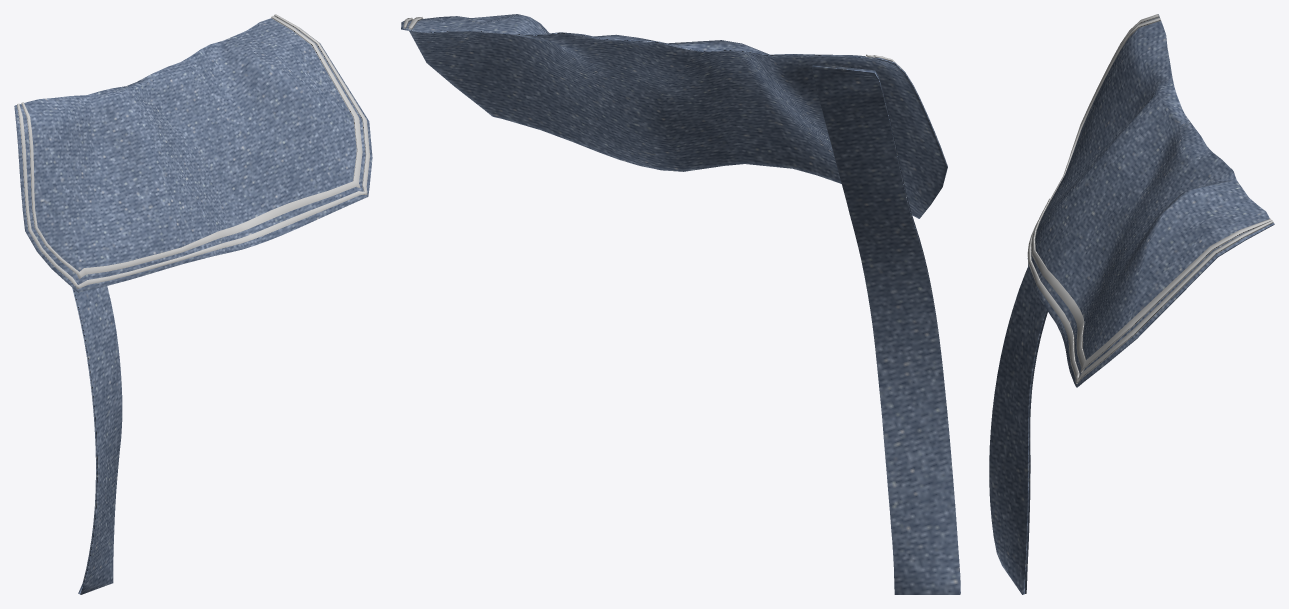
File: Jac_Pocket_RIGHT_V2.glb
3 renders of one model, left to right at view 1: azimuth 30°, elevation 25°; view 2: azimuth 150°, elevation 25°; view 3: azimuth 270°, elevation 25°, orthographic. The views are drawn at different scales.
Parts seen in each view (by area): view 1: Jac_Pocket_RIGHT_V2.001, Jac2_Pocket_Right.001, Jac_Rope_Pocket_RIGHT_V2.001; view 2: Jac_Pocket_RIGHT_V2.001, Jac2_Pocket_Right.001; view 3: Jac_Pocket_RIGHT_V2.001, Jac2_Pocket_Right.001, Jac_Rope_Pocket_RIGHT_V2.001.
Part boxes in pixels (x1,y1,x2,y2): Jac_Pocket_RIGHT_V2.001: (14, 18, 372, 292); Jac2_Pocket_Right.001: (72, 286, 122, 594); Jac_Rope_Pocket_RIGHT_V2.001: (17, 14, 369, 288); Jac_Pocket_RIGHT_V2.001: (401, 14, 947, 218); Jac2_Pocket_Right.001: (812, 63, 960, 594); Jac_Pocket_RIGHT_V2.001: (1027, 14, 1274, 387); Jac2_Pocket_Right.001: (989, 267, 1047, 594); Jac_Rope_Pocket_RIGHT_V2.001: (1027, 14, 1273, 383).
Bounding box in the file's own units: 0.2238 × 0.263 × 0.1224.
Materials: 3 (3 with a texture image).
